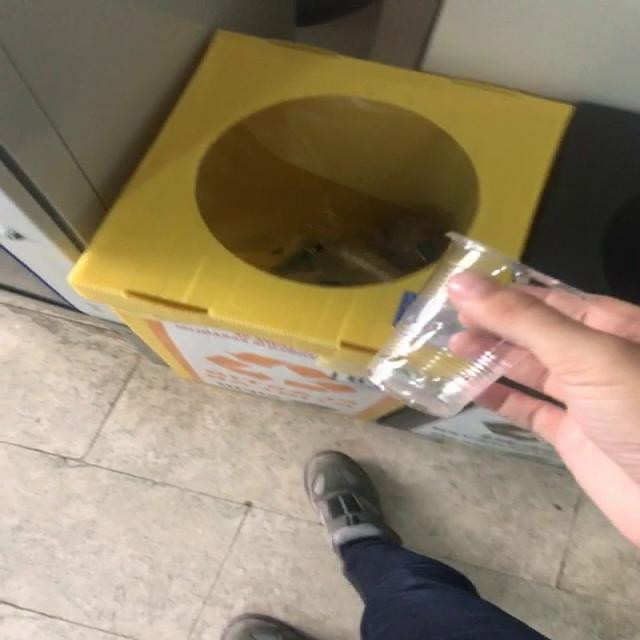Plastic: (368, 232, 584, 418)
